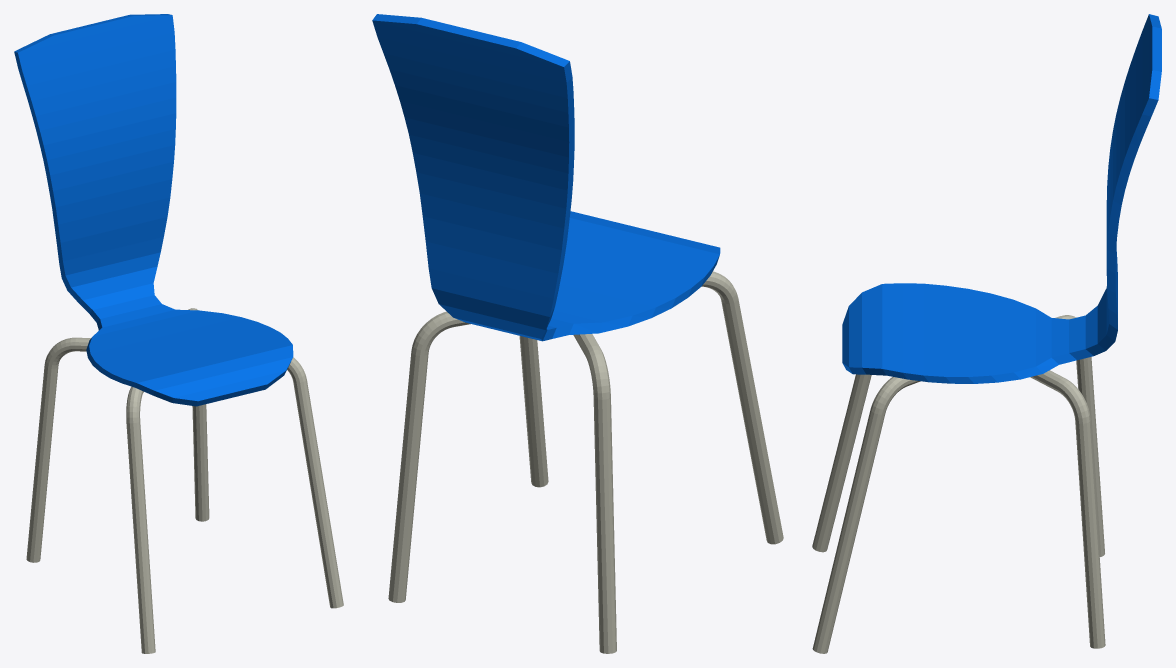
File: kl-dining-chair.glb
The picture shows the model from 3 angles, left to right: view 1: azimuth 30°, elevation 25°; view 2: azimuth 150°, elevation 25°; view 3: azimuth 270°, elevation 25°; orthographic projection. The views are drawn at different scales.
Visible parts, largest first — view 1: Dining_chair_Dining_chair_Dining_chair, Dining_chair_Dining_chair_Chrome; view 2: Dining_chair_Dining_chair_Dining_chair, Dining_chair_Dining_chair_Chrome; view 3: Dining_chair_Dining_chair_Dining_chair, Dining_chair_Dining_chair_Chrome.
Part boxes in pixels (x1,y1,x2,y2): Dining_chair_Dining_chair_Dining_chair: (14, 14, 293, 406); Dining_chair_Dining_chair_Chrome: (26, 308, 343, 653); Dining_chair_Dining_chair_Dining_chair: (372, 14, 720, 341); Dining_chair_Dining_chair_Chrome: (388, 271, 783, 653); Dining_chair_Dining_chair_Dining_chair: (842, 14, 1161, 383); Dining_chair_Dining_chair_Chrome: (812, 315, 1105, 653).
Bounding box in the file's own units: 0.423 × 1 × 0.573.
